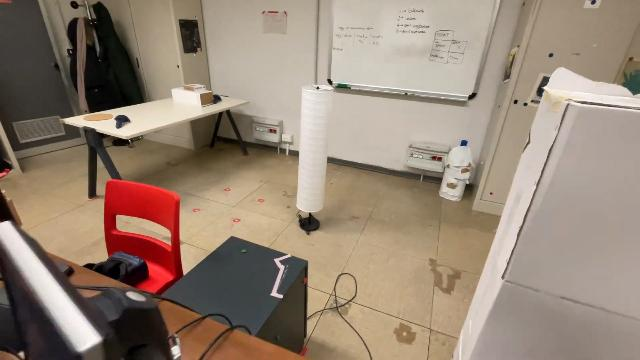Chair: (96, 176, 190, 302)
Lamp: (294, 82, 336, 236)
